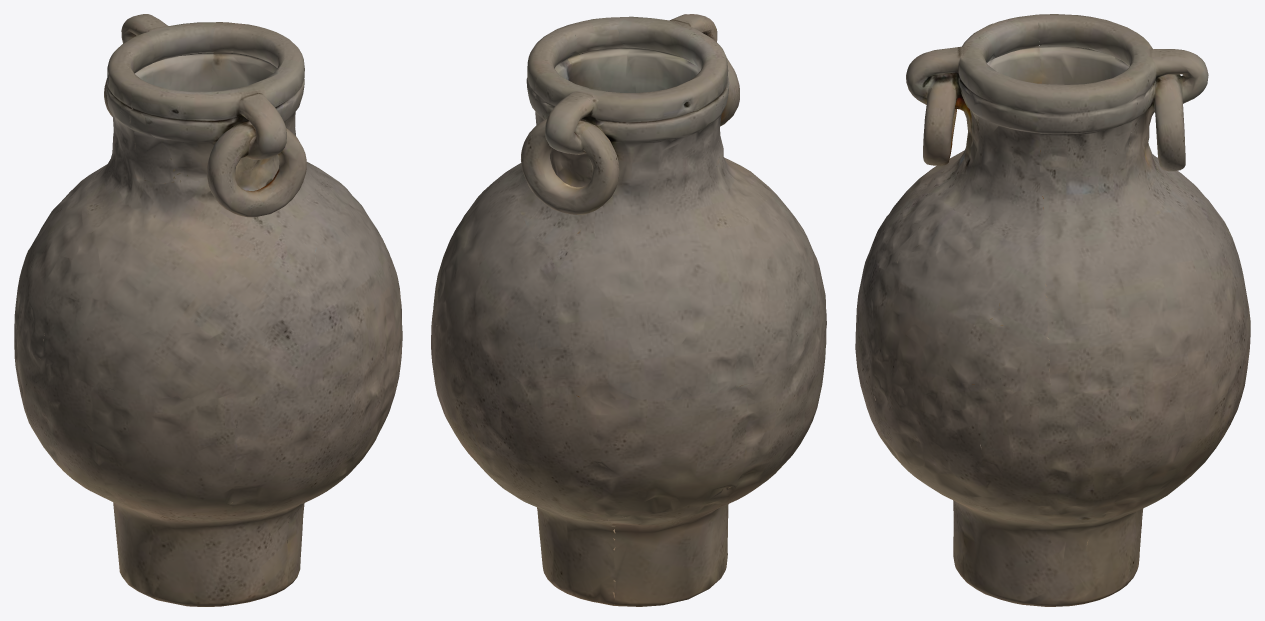
3 renders of one model, left to right at view 1: azimuth 30°, elevation 25°; view 2: azimuth 150°, elevation 25°; view 3: azimuth 270°, elevation 25°, orthographic.
Parts seen in each view (by area): view 1: tripo_node_b7219dc5; view 2: tripo_node_b7219dc5; view 3: tripo_node_b7219dc5.
Boxes of the visible parts, box(x1,y1,x2,y2) form: tripo_node_b7219dc5: box(14, 14, 402, 606); tripo_node_b7219dc5: box(431, 14, 826, 606); tripo_node_b7219dc5: box(855, 14, 1250, 606).
Size of the model in its own units: 0.6893 by 0.9999 by 0.6859.
1 material, 1 textured.
